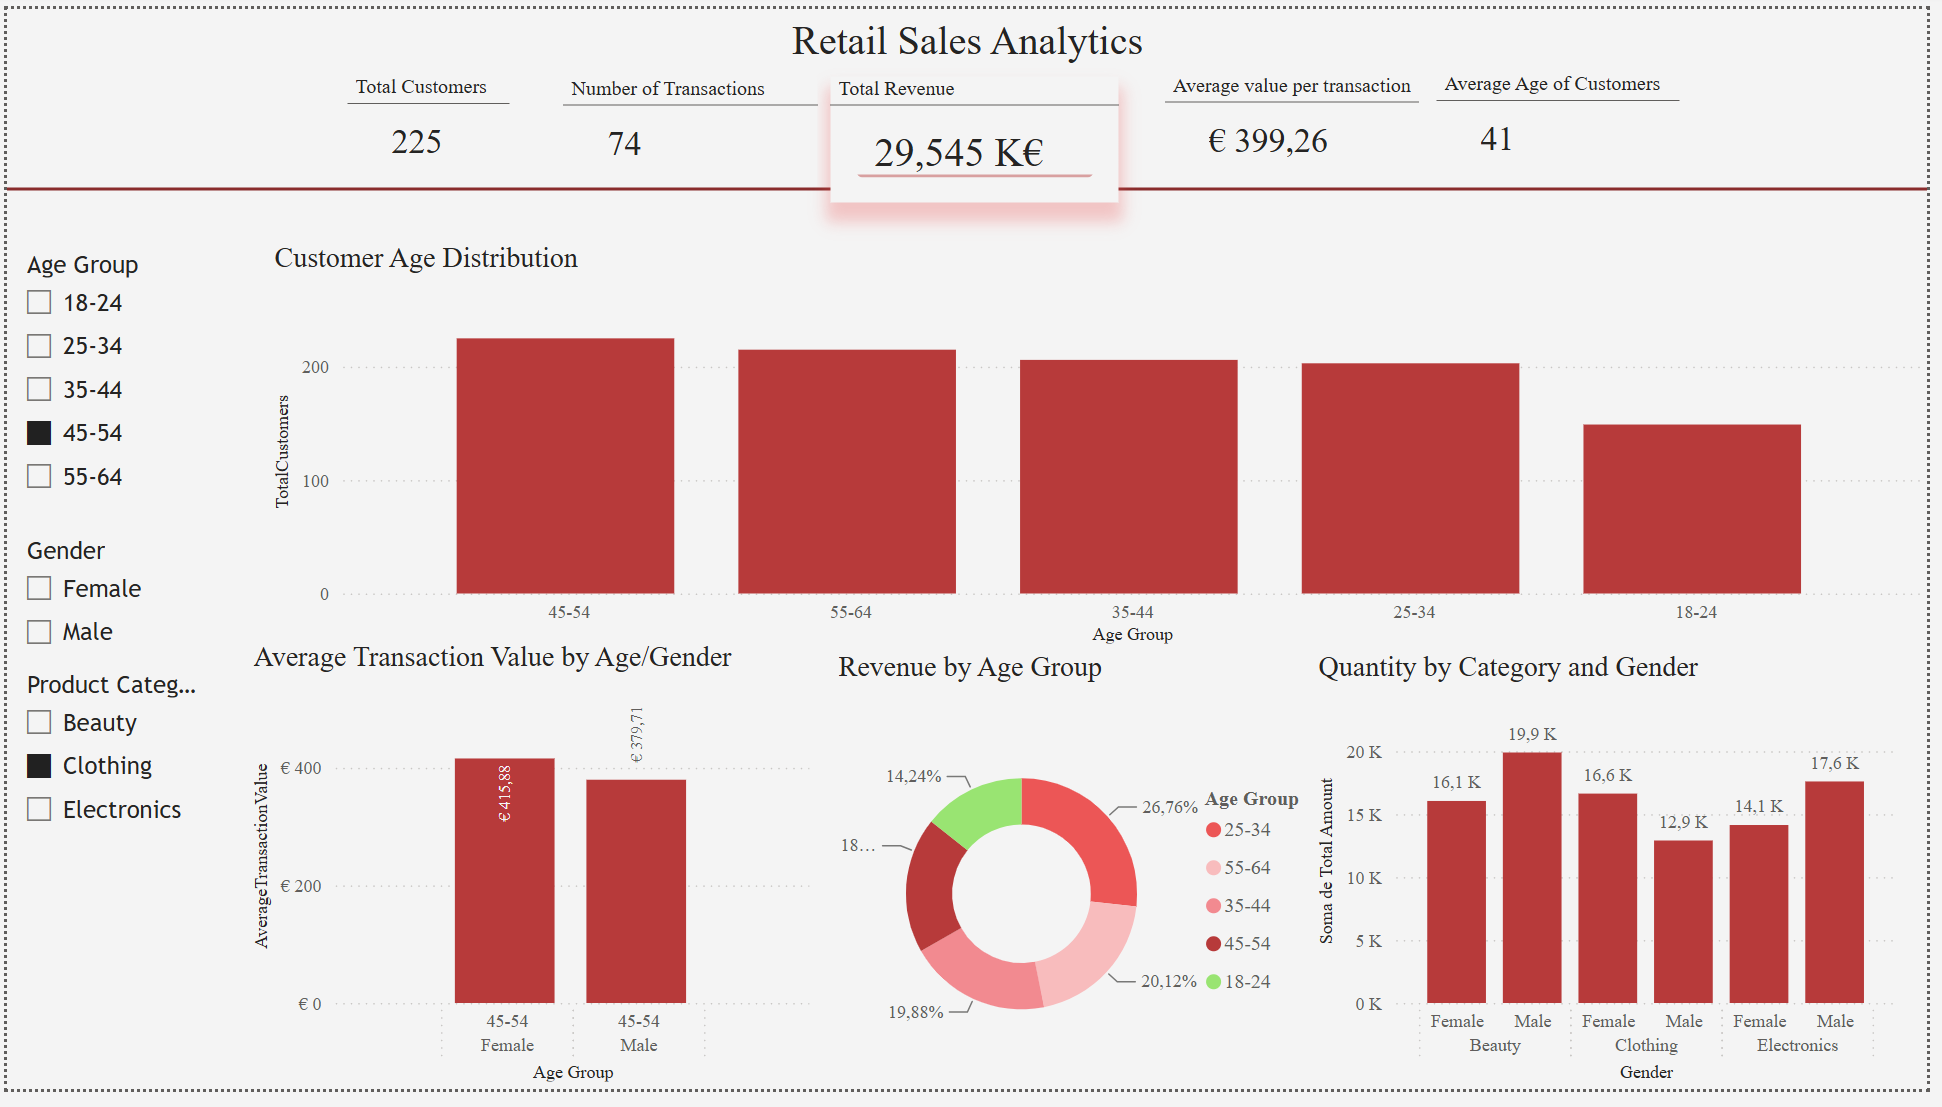

This screenshot's page, from the dashboard's own definition file:
{"tool":"powerbi","page":{"name":"Customer Insights","canvas":[1280,720],"ordinal":1},"visuals":[{"type":"shape","box":[0,45,1280,150],"z":0},{"type":"textbox","box":[0,0,1280,45],"z":1000},{"type":"cardVisual","title":"Total Revenue","fields":{"Data":["Retail_Sale.TotalRevenue"]},"box":[549,45,192,84],"z":2000},{"type":"cardVisual","title":"Number of Transactions","fields":{"Data":["Retail_Sale.TotalTransaction"]},"box":[371.2,45,168.8,72.5],"z":4000},{"type":"cardVisual","title":"Average value per transaction","fields":{"Data":["Retail_Sale.AverageTransactionValue"]},"box":[772,43,168.8,72.5],"z":5000},{"type":"cardVisual","title":"Average Age of Customers","fields":{"Data":["Dim_Customer.AverageCustomerAge"]},"box":[953,42,162,73],"z":7000},{"type":"slicer","fields":{"Values":["Dim_Customer.Age Group"]},"box":[0,155,119,176],"z":8000},{"type":"cardVisual","title":"Total Customers","fields":{"Data":["Dim_Customer.TotalCustomers"]},"box":[227,44,107.5,72.5],"z":9000},{"type":"slicer","fields":{"Values":["Dim_Customer.Gender"]},"box":[0,346,118.8,88.8],"z":10000},{"type":"lineStackedColumnComboChart","title":" Customer Age Distribution","fields":{"Category":["Dim_Customer.Age Group"],"Y":["Dim_Customer.TotalCustomers"]},"box":[173,155,1107.5,272.5],"z":11000},{"type":"donutChart","title":"Revenue by Genre","fields":{"Category":["Dim_Customer.Age Group"],"Y":["Sum(Retail_Sale.Total Amount)"]},"box":[548.8,427.5,336.2,292.5],"z":13000},{"type":"clusteredColumnChart","title":"Quantity by Category","fields":{"Category":["Dim_Category.Product Category","Dim_Customer.Gender"],"Y":["Sum(Retail_Sale.Total Amount)"]},"box":[869,428,395,292],"z":14000},{"type":"clusteredColumnChart","title":"Average Transaction Value by Age/Gender","fields":{"Category":["Dim_Customer.Gender","Dim_Customer.Age Group"],"Y":["Retail_Sale.AverageTransactionValue"]},"box":[159,421,381,299],"z":14001},{"type":"slicer","fields":{"Values":["Dim_Category.Product Category"]},"box":[0,435,150,285],"z":14002}]}

Visuals, with their boxes in screenshot pixels (x1, y1, x2, y2), scaled from the page's 1280x720 canvas onto the 1942x1107 screenshot:
shape: (0, 69, 1941, 300)
textbox: (0, 0, 1941, 69)
"Total Revenue" cardVisual: (833, 69, 1124, 198)
"Number of Transactions" cardVisual: (563, 69, 819, 181)
"Average value per transaction" cardVisual: (1171, 66, 1427, 178)
"Average Age of Customers" cardVisual: (1446, 65, 1692, 177)
slicer - Dim_Customer.Age Group: (0, 238, 181, 509)
"Total Customers" cardVisual: (344, 68, 507, 179)
slicer - Dim_Customer.Gender: (0, 532, 180, 669)
" Customer Age Distribution" lineStackedColumnComboChart: (262, 238, 1941, 657)
"Revenue by Genre" donutChart: (833, 657, 1343, 1106)
"Quantity by Category" clusteredColumnChart: (1318, 658, 1918, 1106)
"Average Transaction Value by Age/Gender" clusteredColumnChart: (241, 647, 819, 1106)
slicer - Dim_Category.Product Category: (0, 669, 228, 1106)
